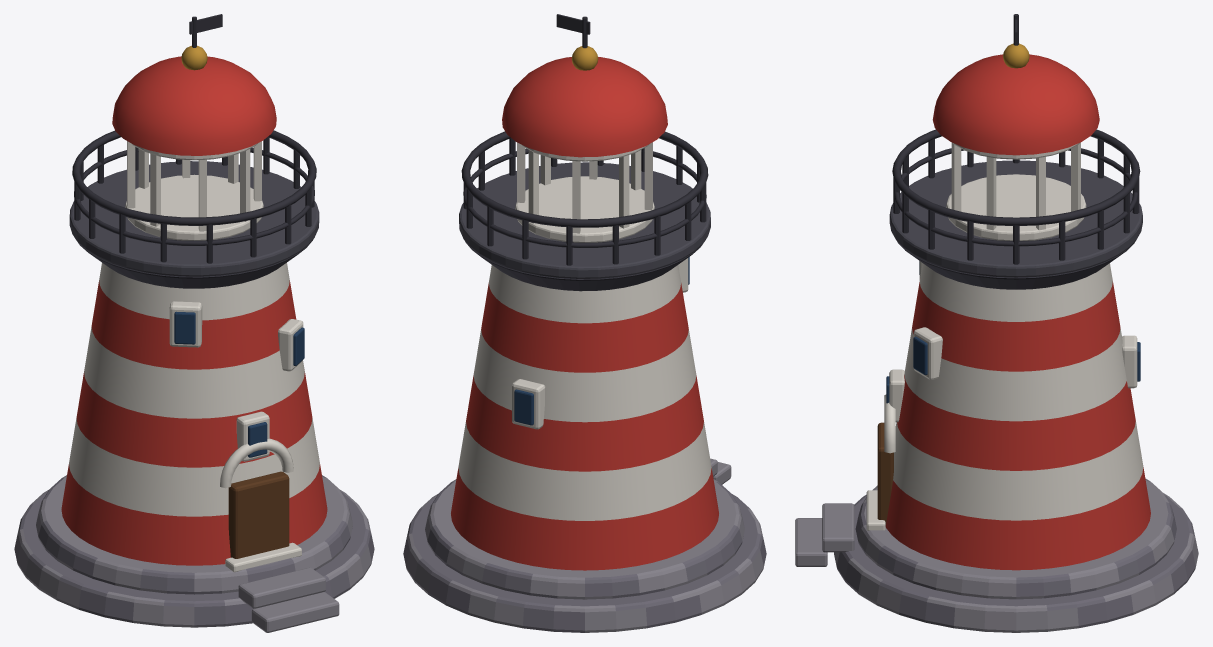
The model's file is lighthouse.glb.
The picture shows the model from 3 angles, left to right: view 1: azimuth 30°, elevation 25°; view 2: azimuth 150°, elevation 25°; view 3: azimuth 270°, elevation 25°; orthographic projection.
Visible parts, largest first — view 1: Lighthouse; view 2: Lighthouse; view 3: Lighthouse.
Boxes of the visible parts, bbox=[...] form: Lighthouse: bbox=[14, 14, 374, 632]; Lighthouse: bbox=[403, 14, 766, 632]; Lighthouse: bbox=[795, 14, 1198, 632].
Size of the model in its own units: 0.6769 by 1.11 by 0.7484.
